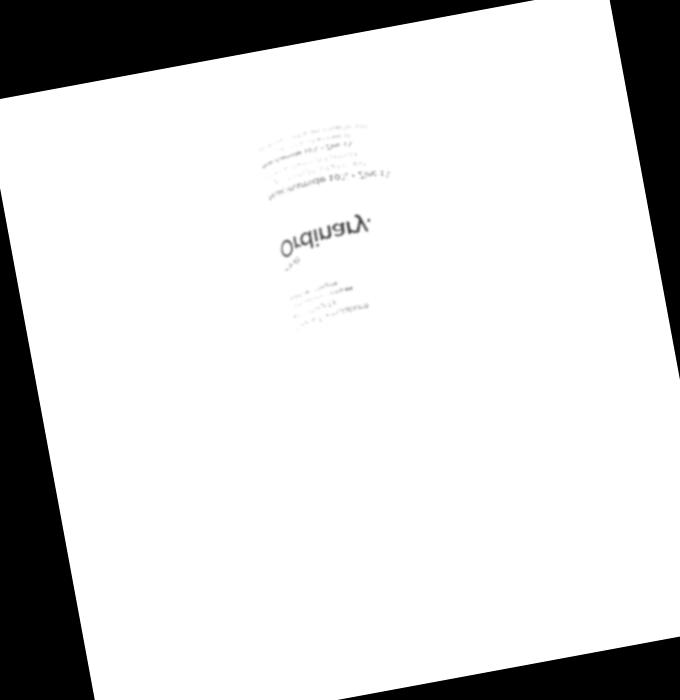cosmetic: (228, 60, 511, 646)
